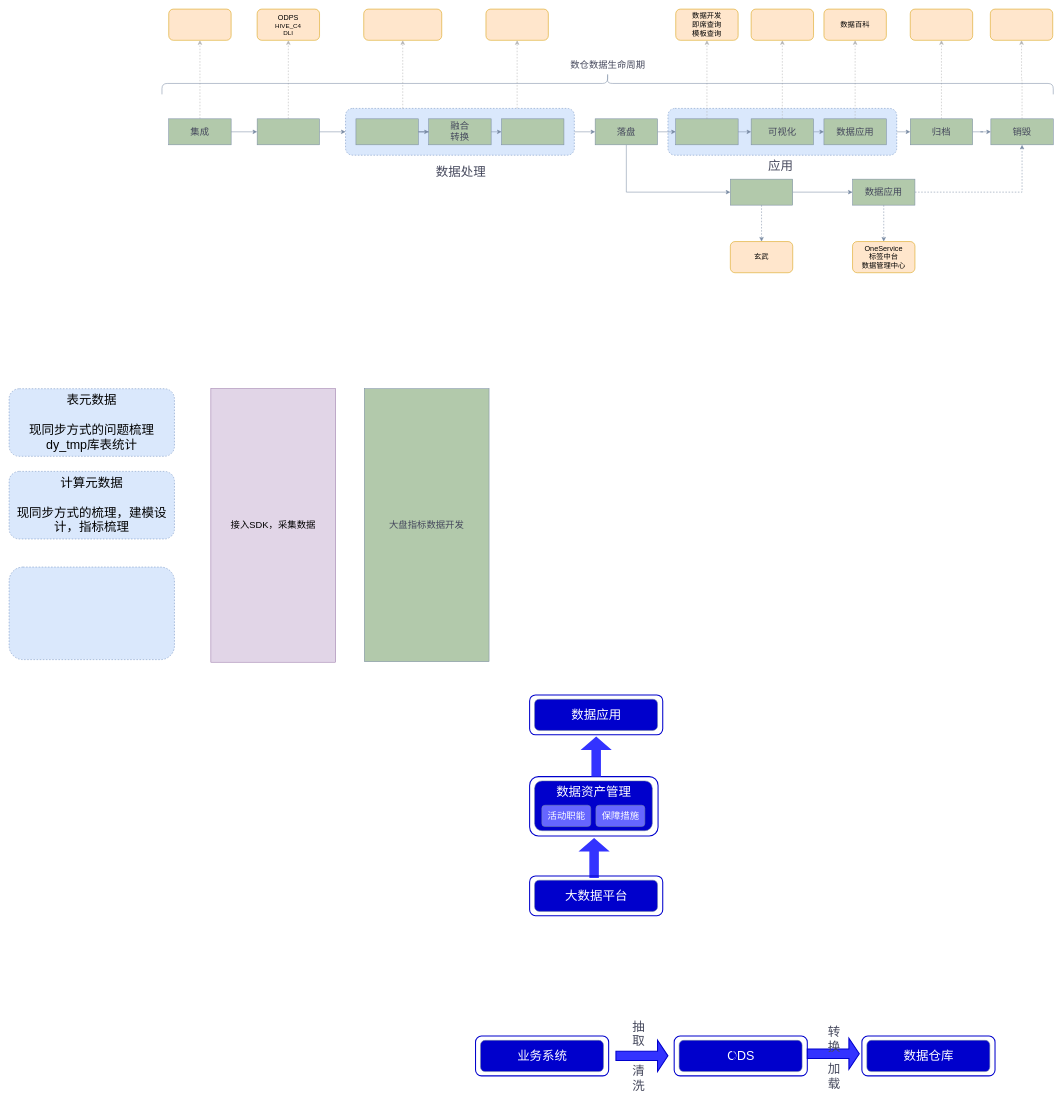
Some shapes in this 1062 by 1102 pixel diagram are drawn without their labels. The centre of each missing label's shape, as x and y in pixels:
aliyun-etl 玄武: point 941,24
Discover 斗鱼360: point 782,24
DQC: point 516,24
Miner-ETL 任务开发: point 402,24
存储: point 288,131
导出 转存: point 761,192
数据集成 玄武 miner: point 199,24
查询分析: point 706,131
清洗: point 386,131
生命周期 数据删除: point 1021,24
统一采集SDK 系统设计和开发: point 91,613
验证: point 532,131
